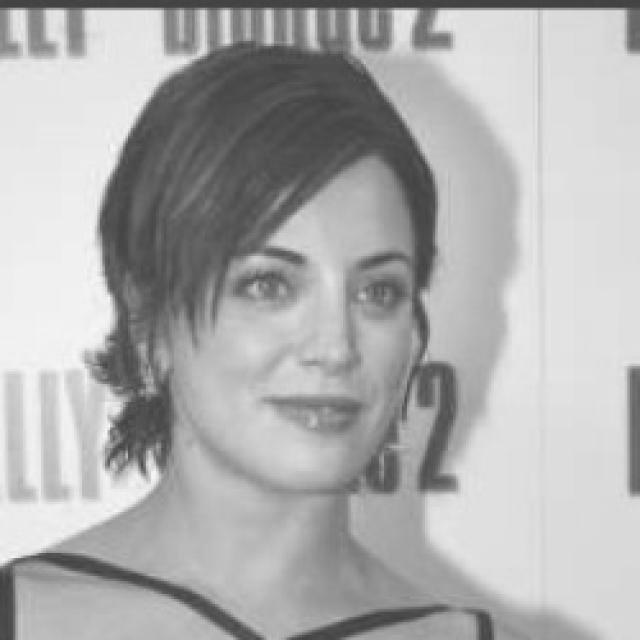real: (80, 48, 470, 510), (239, 252, 415, 317)
